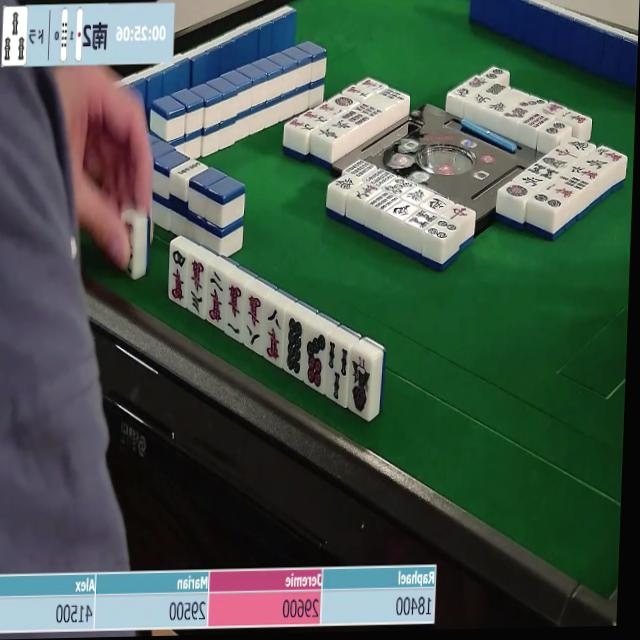m1: (221, 280, 247, 337)
m2: (203, 268, 227, 326)
m3: (186, 258, 208, 317)
m4: (166, 246, 187, 307)
m8: (259, 304, 287, 364), (240, 292, 268, 352)
s1: (346, 352, 371, 418)
s3: (324, 340, 351, 407), (2, 7, 27, 66)
t7: (302, 328, 330, 392)
t8: (282, 315, 307, 378)
